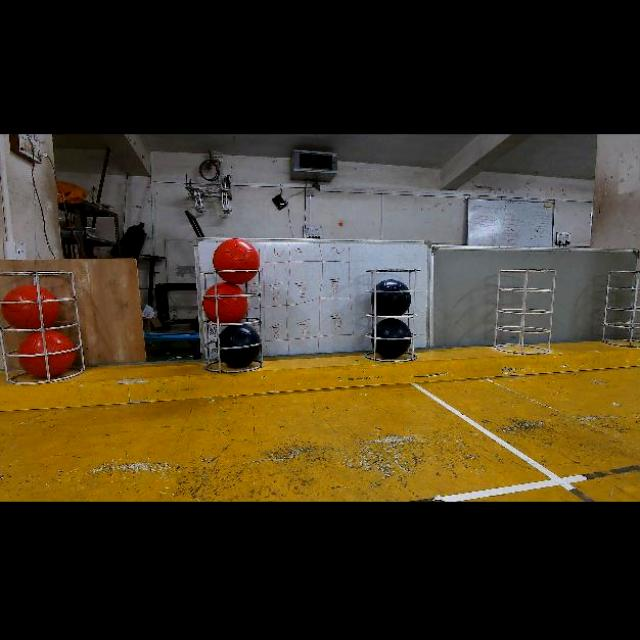P: (215, 325, 261, 368), (370, 318, 411, 359), (371, 279, 411, 317)
R: (1, 285, 60, 330), (18, 333, 75, 379), (213, 239, 260, 285), (203, 281, 249, 323)
S: (484, 271, 562, 355), (600, 268, 640, 352)
